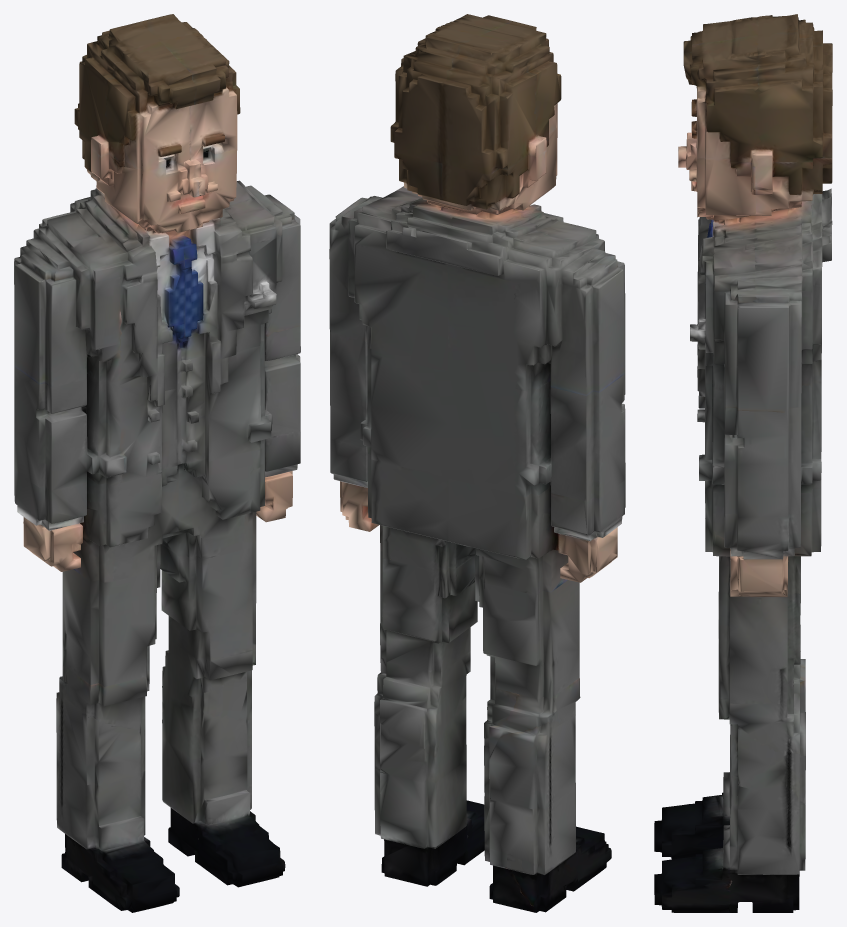
File: character.glb
The picture shows the model from 3 angles, left to right: view 1: azimuth 30°, elevation 25°; view 2: azimuth 150°, elevation 25°; view 3: azimuth 270°, elevation 25°; orthographic projection. The views are drawn at different scales.
Visible parts, largest first — view 1: geometry_0; view 2: geometry_0; view 3: geometry_0.
Part boxes in pixels (box(x1,y1,x2,y2)): geometry_0: box(14, 14, 300, 912); geometry_0: box(329, 14, 625, 912); geometry_0: box(654, 14, 832, 912).
Bounding box in the file's own units: 0.3325 × 0.9999 × 0.1912.
Materials: 1 (1 with a texture image).
